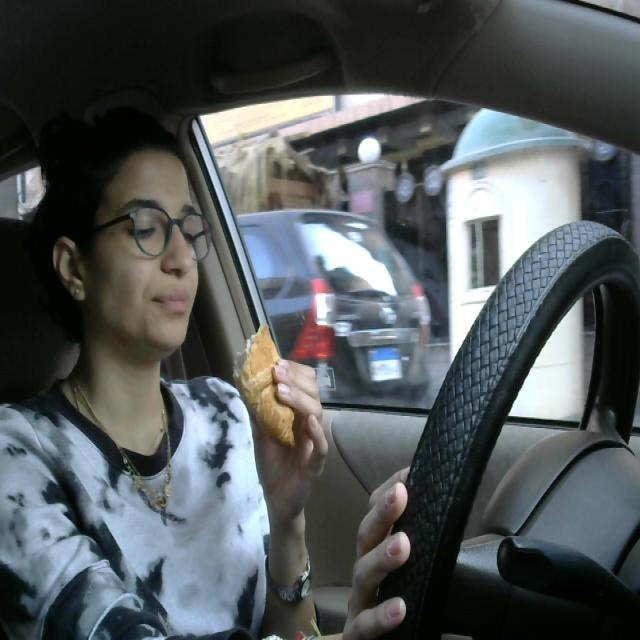eating: (230, 318, 309, 453)
